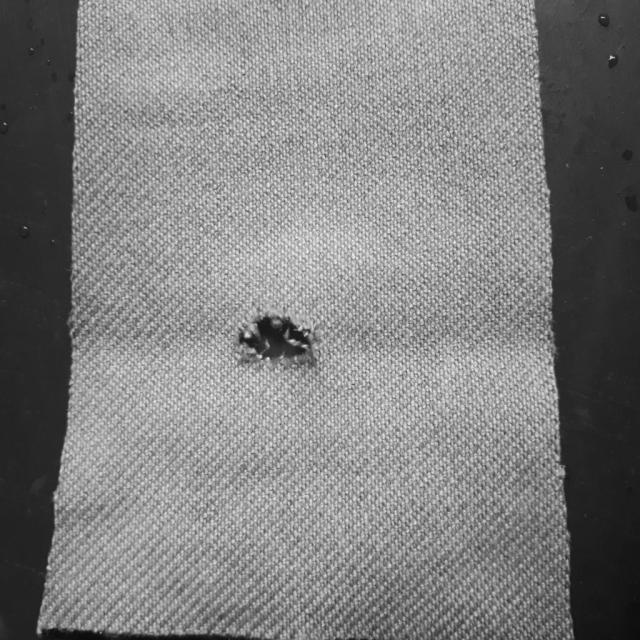other: (190, 280, 342, 378)
